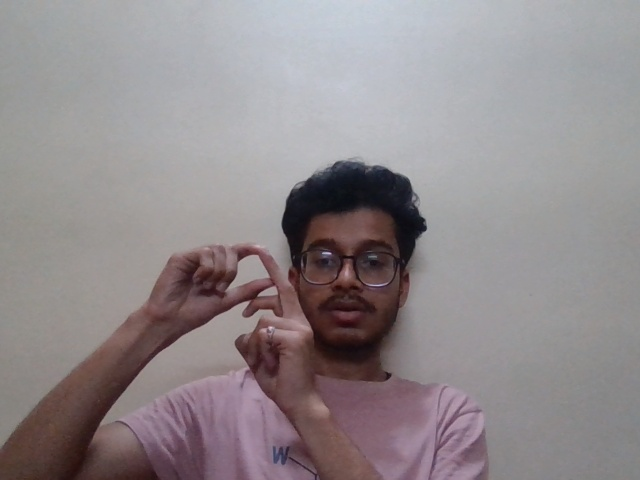R: (115, 236, 331, 400)
